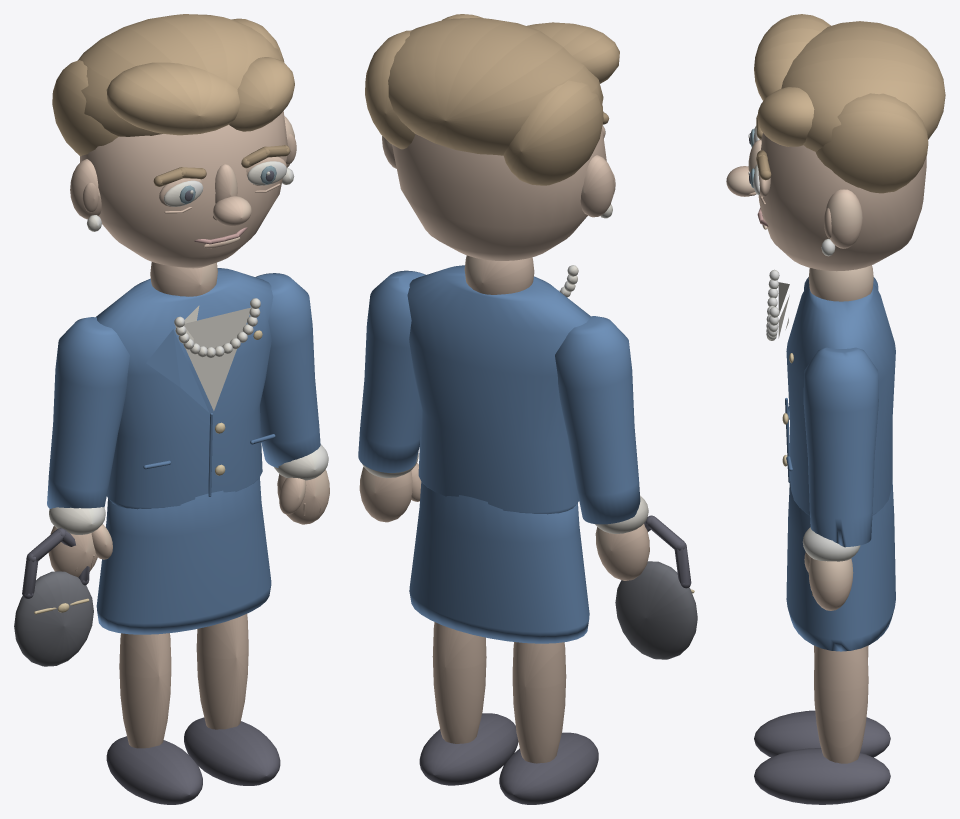
File: margaret_thatcher_1990_v1.glb
3 renders of one model, left to right at view 1: azimuth 30°, elevation 25°; view 2: azimuth 150°, elevation 25°; view 3: azimuth 270°, elevation 25°, orthographic. The views are drawn at different scales.
Visible parts, largest first — view 1: Margaret Thatcher; view 2: Margaret Thatcher; view 3: Margaret Thatcher.
Boxes of the visible parts, x1,y1,x2,y2 form: Margaret Thatcher: (14, 14, 329, 804); Margaret Thatcher: (358, 14, 697, 804); Margaret Thatcher: (726, 14, 945, 804).
Bounding box in the file's own units: 2.14 × 4.78 × 1.28.
